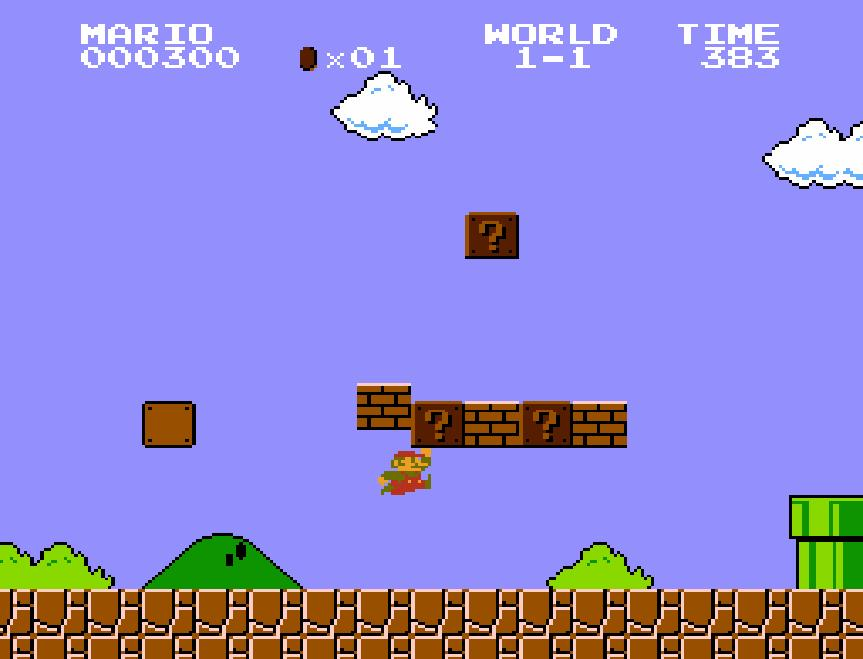little_mario: (376, 446, 434, 496)
